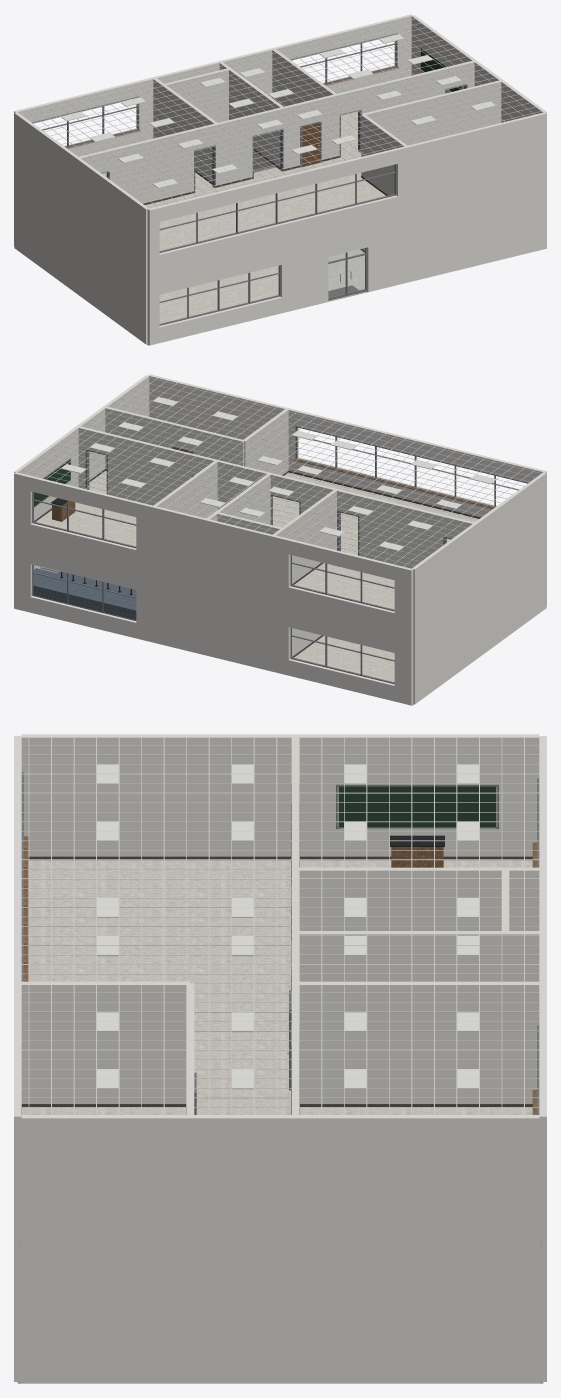
File: gongtong_interior.glb
3 renders of one model, top to bottom at view 1: azimuth 30°, elevation 25°; view 2: azimuth 150°, elevation 25°; view 3: azimuth 270°, elevation 25°, orthographic. The views are drawn at different scales.
Visible parts, largest first — view 1: L1_part, L0_WALL_S_wall, L1_WALL_S_wall, L1_WALL_ceil_tbar, L0_WALL_W_wall, L1_WALL_N_wall, L1_WALL_W_wall, L1_floor, L0_floor, L1_WALL_ceil_trof, L1_WALL_E_wall, L1_WALL_S_frame (+6 smaller); view 2: L1_part, L0_WALL_N_wall, L1_WALL_N_wall, L1_WALL_ceil_tbar, L1_WALL_S_wall, L0_WALL_W_wall, L1_WALL_W_wall, L1_floor, L1_WALL_E_wall, L1_WALL_ceil_trof, L0_carpet, L0_floor (+8 smaller); view 3: L1_part, L0_WALL_E_wall, L1_WALL_E_wall, L1_WALL_W_wall, L1_floor, L1_WALL_ceil_tbar, L1_WALL_ceil_trof, L1_board, L1_WALL_N_wall, L1_WALL_S_wall, L1_WALL_W_base, L1_frame (+4 smaller).
Part boxes in pixels (bbox=[...]): L1_part: bbox=[79, 49, 501, 203]; L0_WALL_S_wall: bbox=[147, 176, 546, 345]; L1_WALL_S_wall: bbox=[147, 112, 546, 272]; L1_WALL_ceil_tbar: bbox=[21, 18, 541, 207]; L0_WALL_W_wall: bbox=[14, 175, 147, 344]; L1_WALL_N_wall: bbox=[14, 14, 412, 173]; L1_WALL_W_wall: bbox=[14, 112, 148, 271]; L1_floor: bbox=[102, 111, 385, 250]; L0_floor: bbox=[147, 249, 367, 345]; L1_WALL_ceil_trof: bbox=[61, 34, 495, 188]; L1_WALL_E_wall: bbox=[411, 15, 546, 122]; L1_WALL_S_frame: bbox=[159, 164, 396, 252]; L1_part: bbox=[78, 407, 474, 583]; L0_WALL_N_wall: bbox=[14, 536, 413, 705]; L1_WALL_N_wall: bbox=[14, 472, 413, 632]; L1_WALL_ceil_tbar: bbox=[21, 377, 541, 566]; L1_WALL_S_wall: bbox=[148, 374, 546, 533]; L0_WALL_W_wall: bbox=[413, 535, 546, 704]; L1_WALL_W_wall: bbox=[412, 472, 546, 631]; L1_floor: bbox=[36, 470, 478, 609]; L1_WALL_E_wall: bbox=[14, 375, 149, 520]; L1_WALL_ceil_trof: bbox=[61, 397, 495, 550]; L0_carpet: bbox=[33, 567, 136, 619]; L0_floor: bbox=[294, 636, 413, 705]; L1_part: bbox=[21, 737, 539, 1114]; L0_WALL_E_wall: bbox=[21, 1240, 539, 1383]; L1_WALL_E_wall: bbox=[21, 1115, 539, 1240]; L1_WALL_W_wall: bbox=[21, 734, 539, 856]; L1_floor: bbox=[22, 860, 532, 1114]; L1_WALL_ceil_tbar: bbox=[21, 737, 539, 1114]; L1_WALL_ceil_trof: bbox=[97, 764, 478, 1089]; L1_board: bbox=[338, 786, 496, 827]; L1_WALL_N_wall: bbox=[539, 736, 546, 1238]; L1_WALL_S_wall: bbox=[14, 736, 21, 1238]; L1_WALL_W_base: bbox=[28, 856, 532, 859]; L1_frame: bbox=[194, 784, 498, 1114].
Bounding box in the file's own units: 24.2 × 7.85 × 14.2.
Materials: 28 (9 with a texture image).
